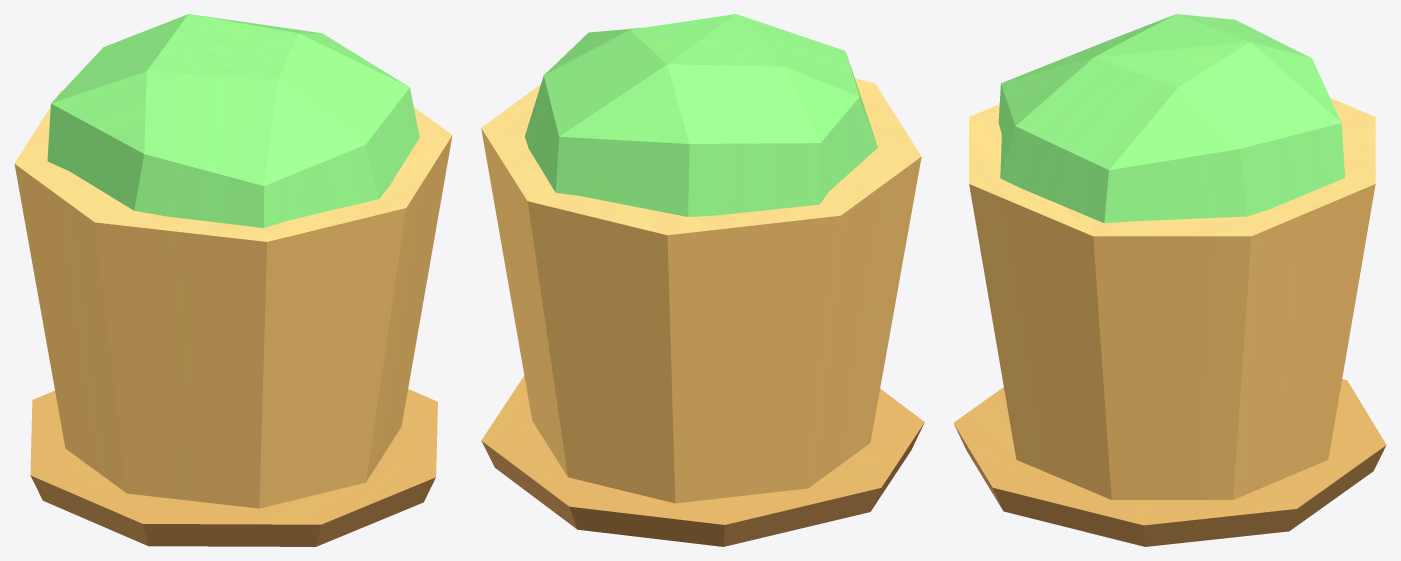
Rendered from trees.008.glb.
3 views of the same model, side by side, from view 1: azimuth 30°, elevation 25°; view 2: azimuth 150°, elevation 25°; view 3: azimuth 270°, elevation 25° (orthographic). The views are drawn at different scales.
Parts seen in each view (by area): view 1: trees.008(Clone); view 2: trees.008(Clone); view 3: trees.008(Clone).
Part boxes in pixels (x1,y1,x2,y2): trees.008(Clone): [14, 14, 452, 546]; trees.008(Clone): [481, 14, 924, 546]; trees.008(Clone): [953, 14, 1386, 546].
Bounding box in the file's own units: 0.7662 × 0.8137 × 0.7662.
1 material, 1 textured.
